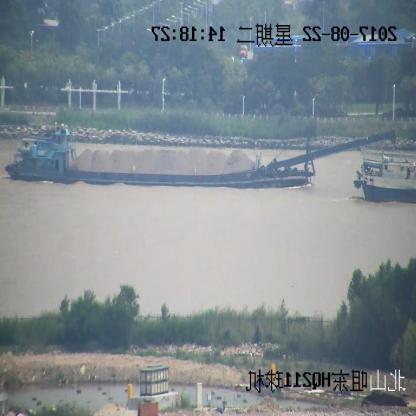Fishing Boat: (353, 153, 415, 203)
